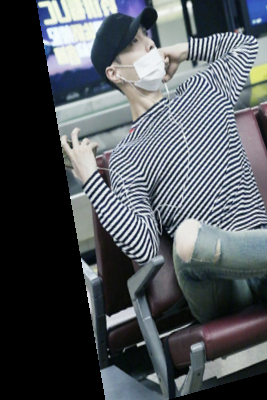mask_weared_incorrect: (86, 6, 181, 104)
